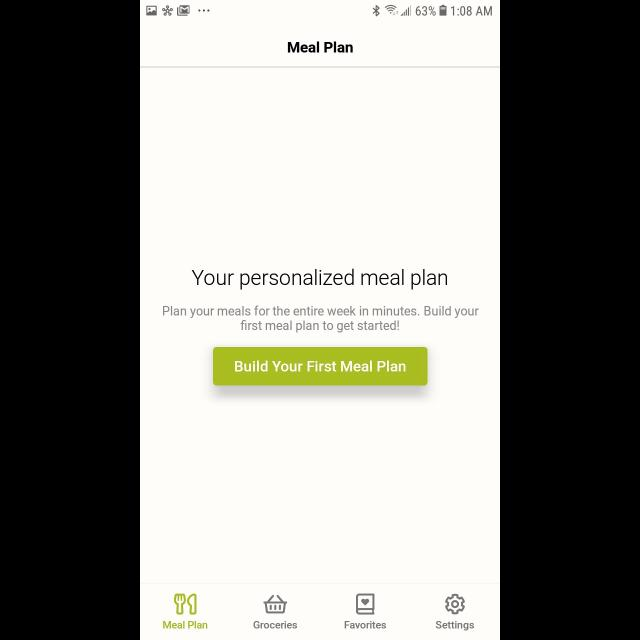icon: (264, 594, 288, 614), (356, 594, 376, 614), (445, 594, 465, 614)
image: (175, 593, 198, 615)
text: (163, 306, 479, 332), (192, 268, 448, 290), (287, 42, 353, 54), (436, 621, 474, 631), (164, 621, 208, 629), (254, 621, 298, 629), (345, 621, 387, 629)
textbutton: (212, 346, 428, 386)
uppertaskbar: (140, 1, 500, 18)
